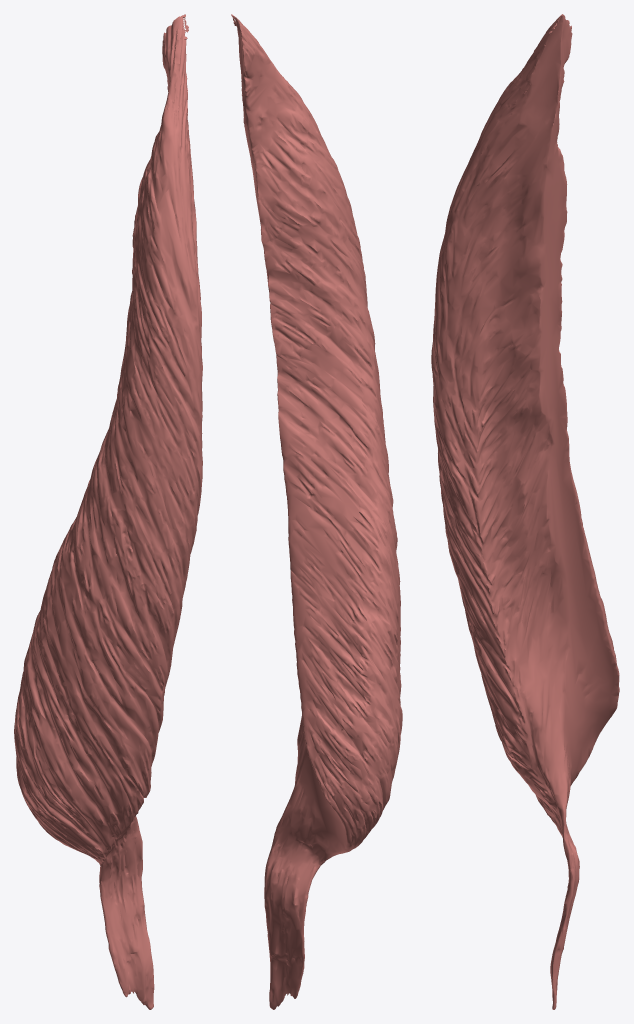
The model's file is fma38933-fj1443m.glb.
3 renders of one model, left to right at view 1: azimuth 30°, elevation 25°; view 2: azimuth 150°, elevation 25°; view 3: azimuth 270°, elevation 25°, orthographic. The views are drawn at different scales.
Visible parts, largest first — view 1: FMA38933_FJ1443M; view 2: FMA38933_FJ1443M; view 3: FMA38933_FJ1443M.
Boxes of the visible parts, <box> form: FMA38933_FJ1443M: <box>14,14,202,1009</box>; FMA38933_FJ1443M: <box>231,14,402,1009</box>; FMA38933_FJ1443M: <box>431,14,619,1009</box>.
Size of the model in its own units: 0.0695 by 0.3945 by 0.0663.
